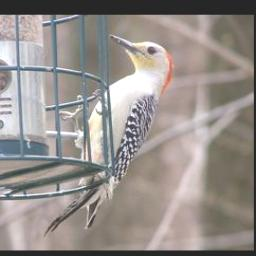Woodpecker: (42, 30, 176, 238)
